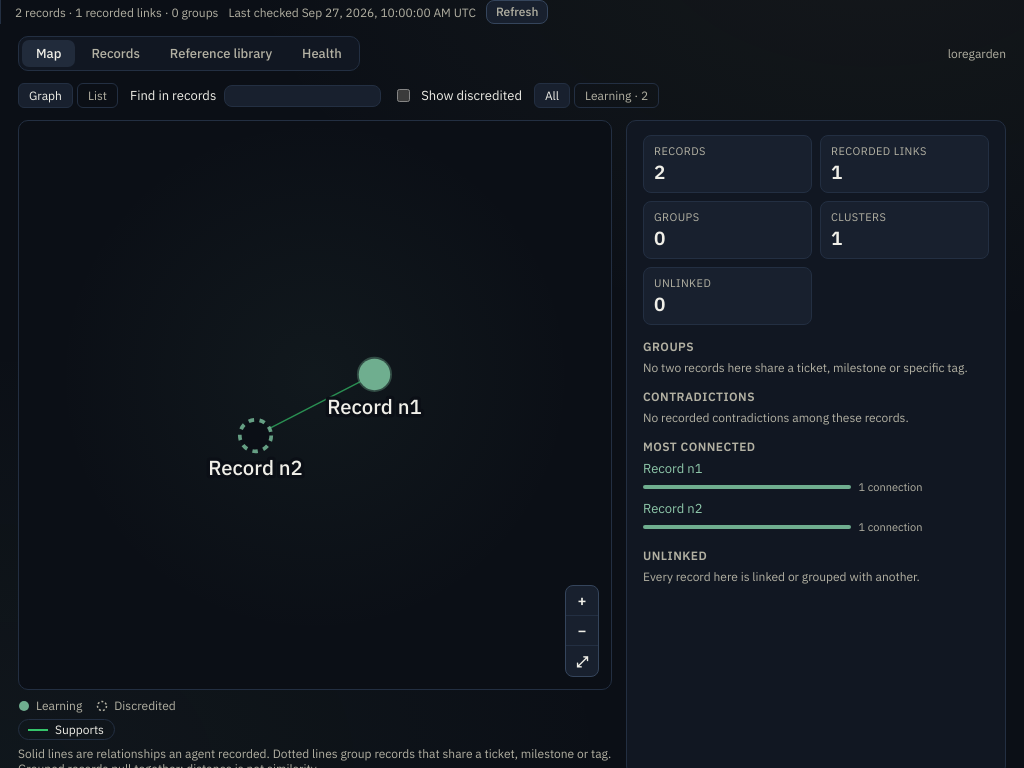
Test: selecting a record does not refetch the graph
The width and height of the screenshot is (1024, 768).
Check: the element with test id "knowledge-canvas" is shown, box [18,120,612,690]
Step 1. Click the radio button labelled "List" → (97, 96), box [77,83,118,108]
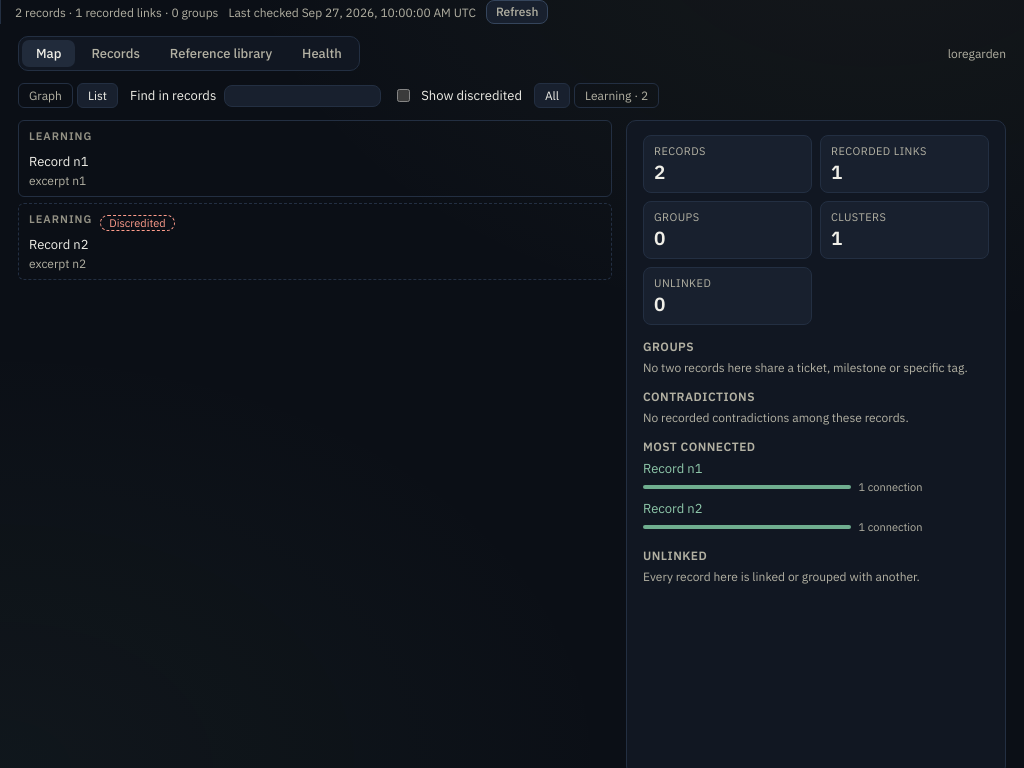
Step 2. Click the button "Learning Record n1 excerpt n1" → (61, 136), box [18,120,612,197]
(page scrolled)
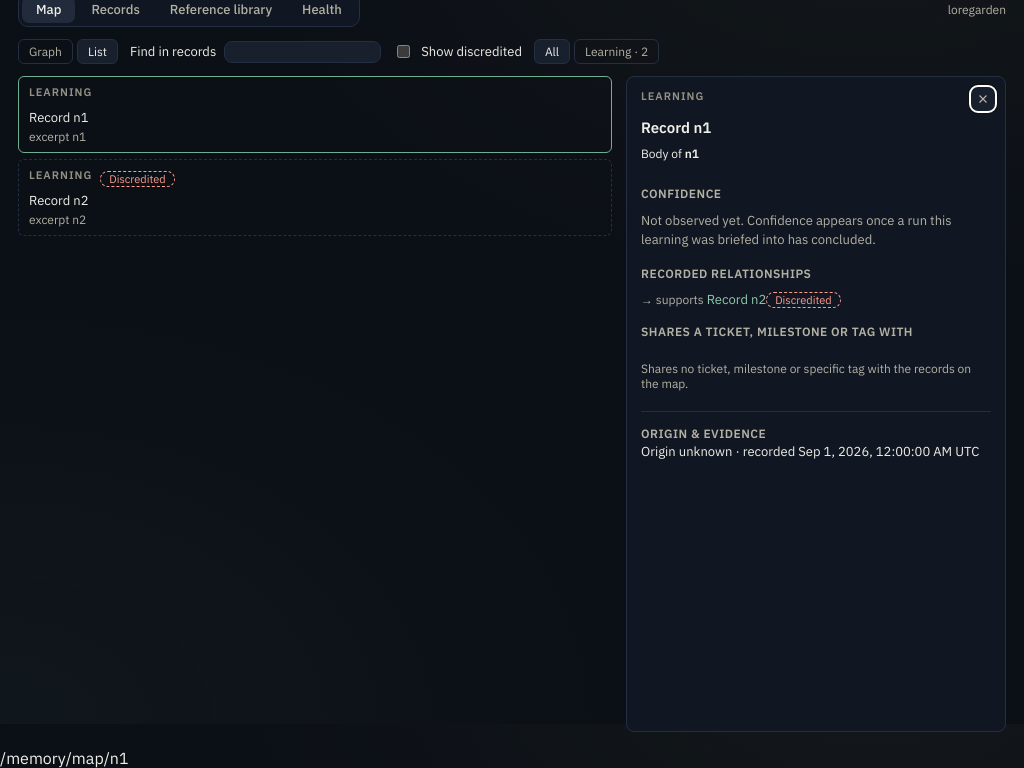
Check: the heading "Record n1" is shown, box [641,118,711,137]
Check: the text with test id "where" reads "/memory/map/n1", box [0,748,128,767]
